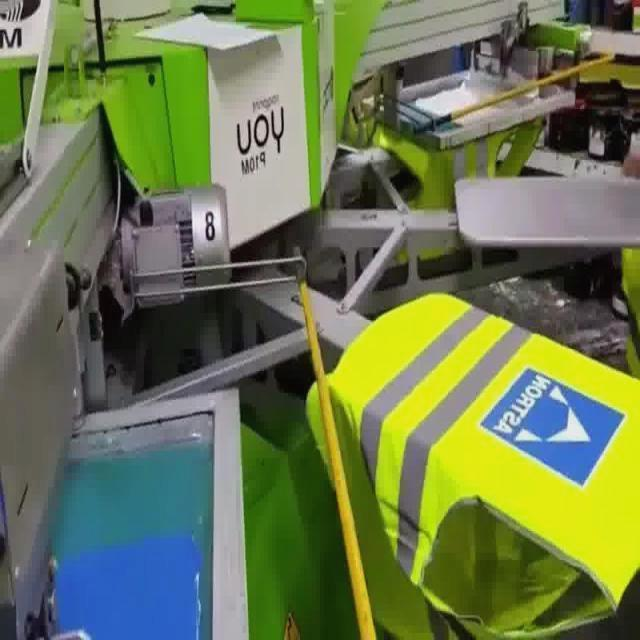vest: (303, 289, 640, 640)
